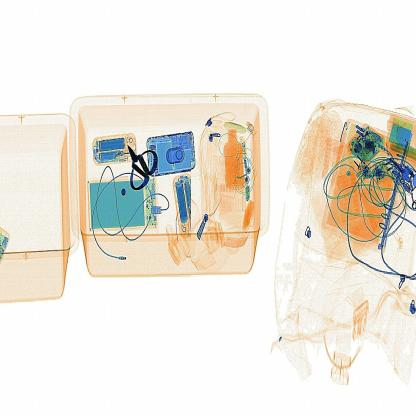gun: (125, 139, 162, 197)
